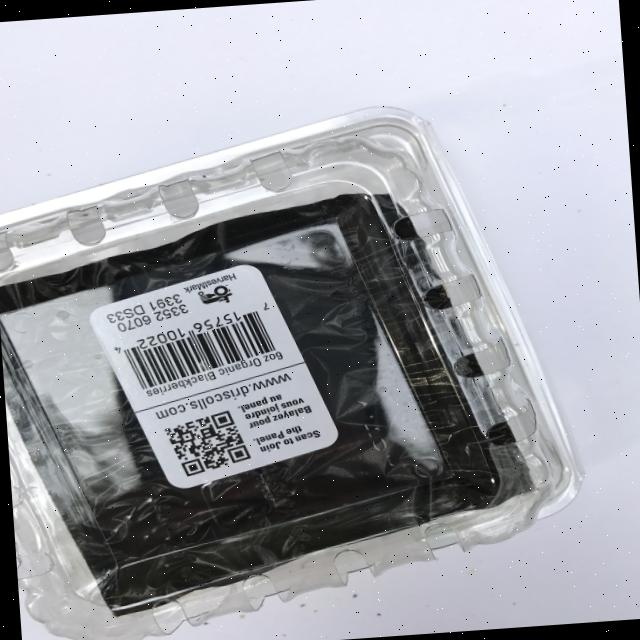plastic: (0, 93, 594, 640)
